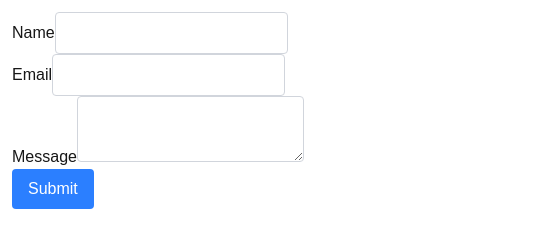
ContactForm › should display error when name loses focus and value is too short
Type "x" into the field labelled "Name" at (171, 33), box x1=55 y1=12 x2=288 y2=54
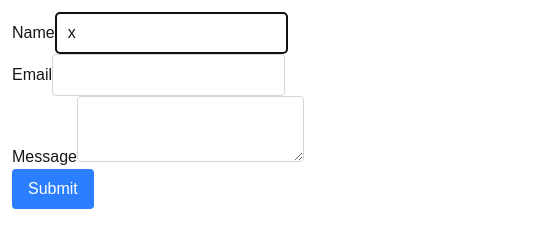
Press Tab
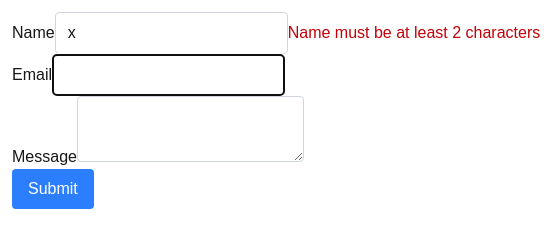
Check: the text "Name must be at least 2 characters" is shown, box x1=288 y1=24 x2=540 y2=41
